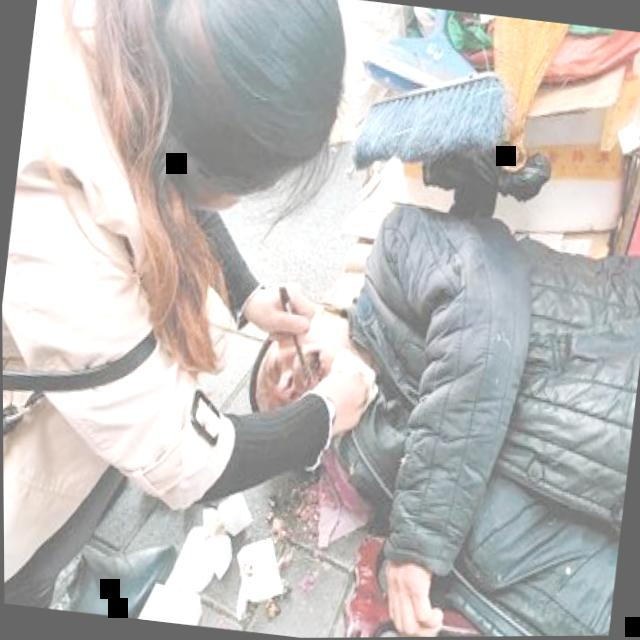Fall-Detected: (252, 179, 640, 639)
